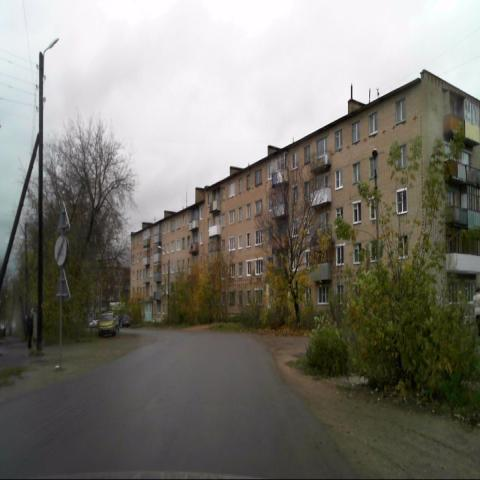3_25: (54, 236, 68, 266)
